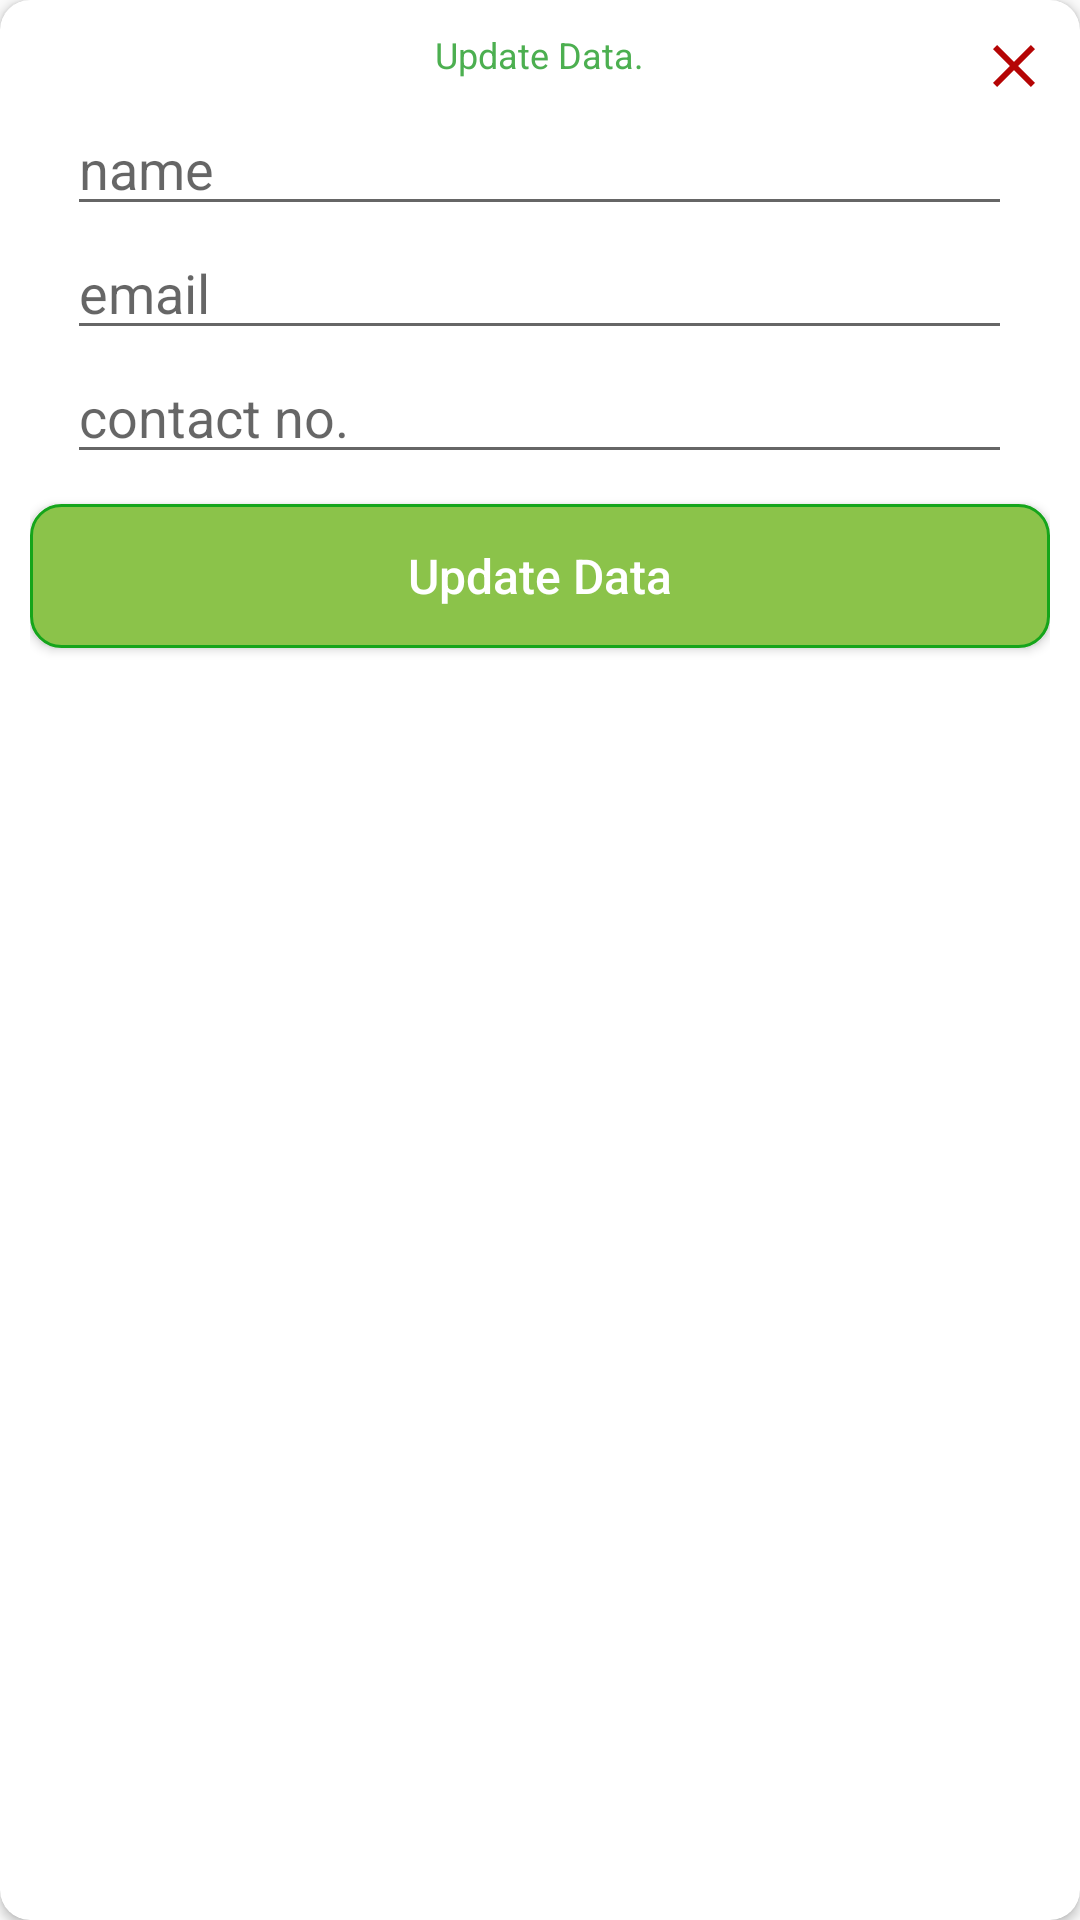

Screen size 1080w x 1920h. Icon name, then its box in pixels as BBox(x1, y1, x2, y2):
close: BBox(993, 45, 1035, 87)
